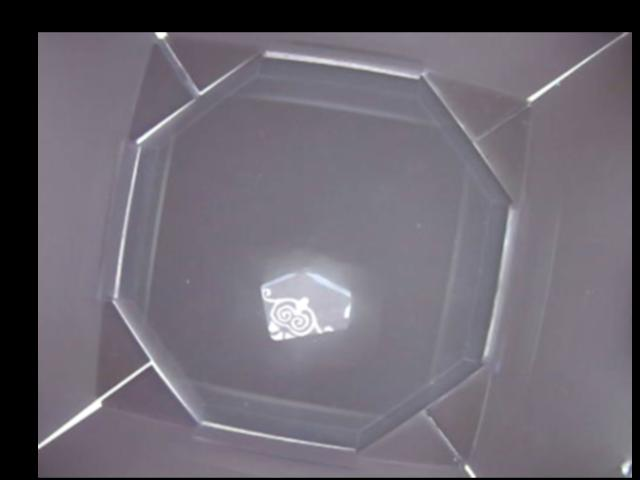China: (262, 269, 353, 344)
